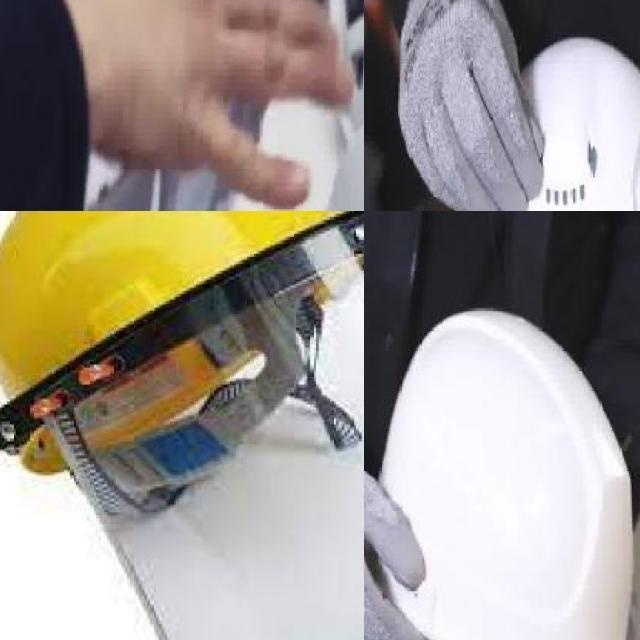apron: (396, 0, 545, 211), (364, 434, 431, 640)
